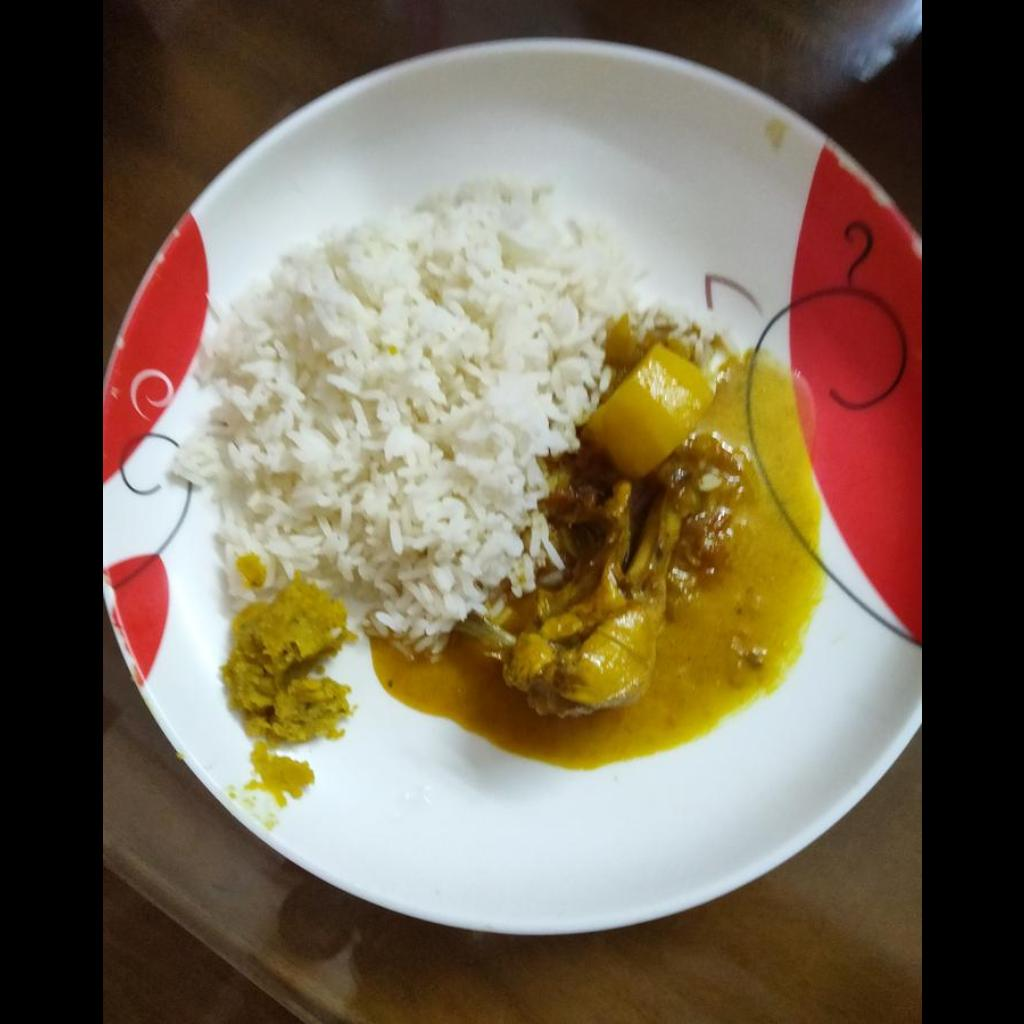chicken: (468, 441, 720, 718)
potato: (583, 345, 712, 479)
rice: (178, 175, 645, 642)
vorta: (220, 576, 356, 751)
